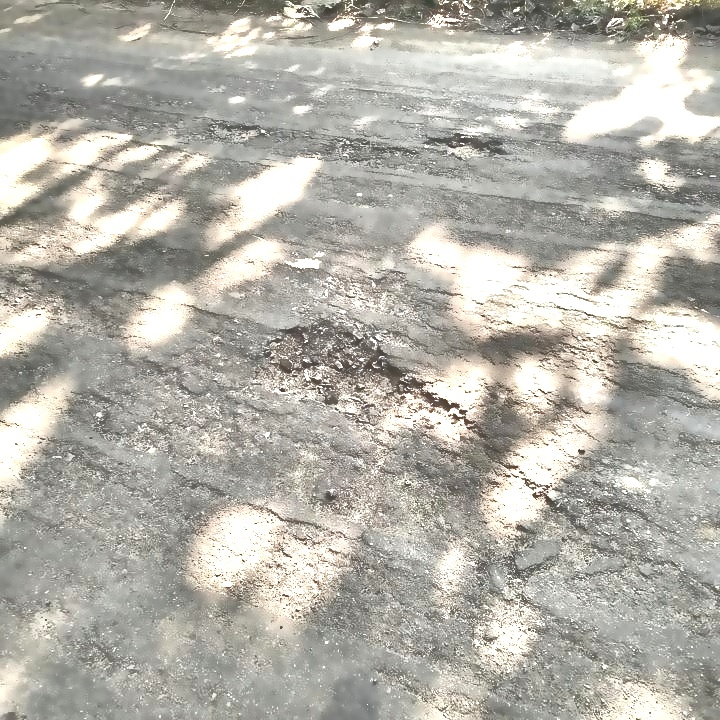pothole: (250, 319, 474, 440), (421, 130, 507, 163), (200, 119, 271, 143)
